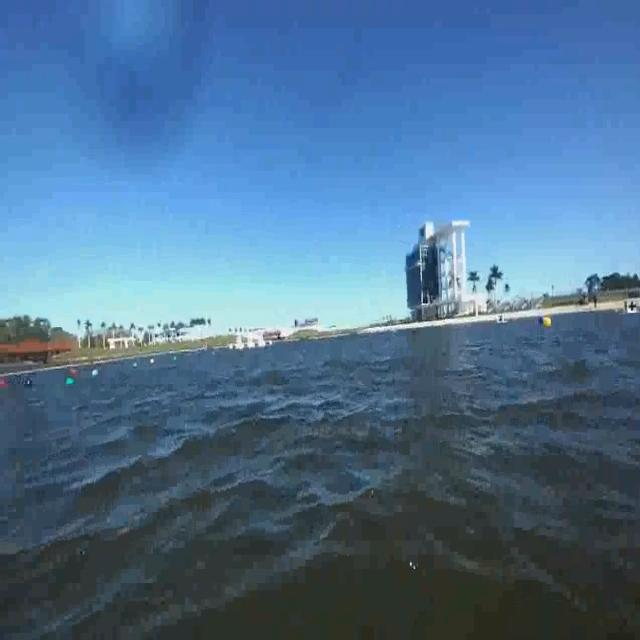green-buoy: (66, 377, 76, 387)
yellow-buoy: (543, 316, 551, 329)
